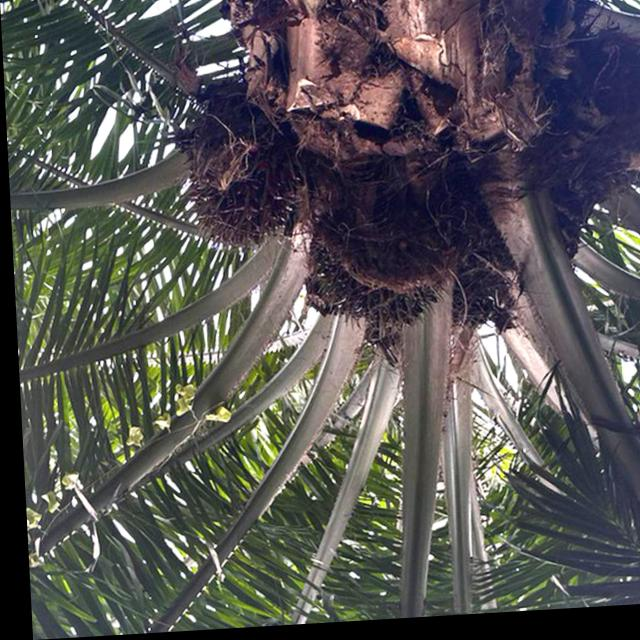unripe: (300, 227, 451, 351)
